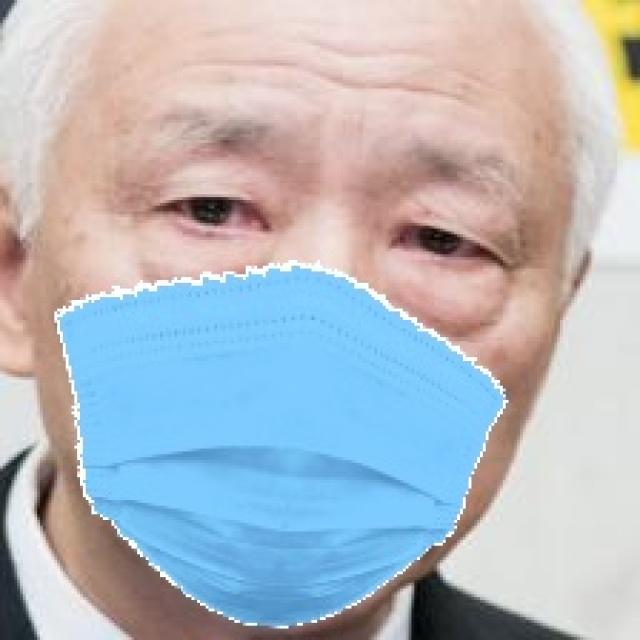mask: (34, 258, 509, 640)
